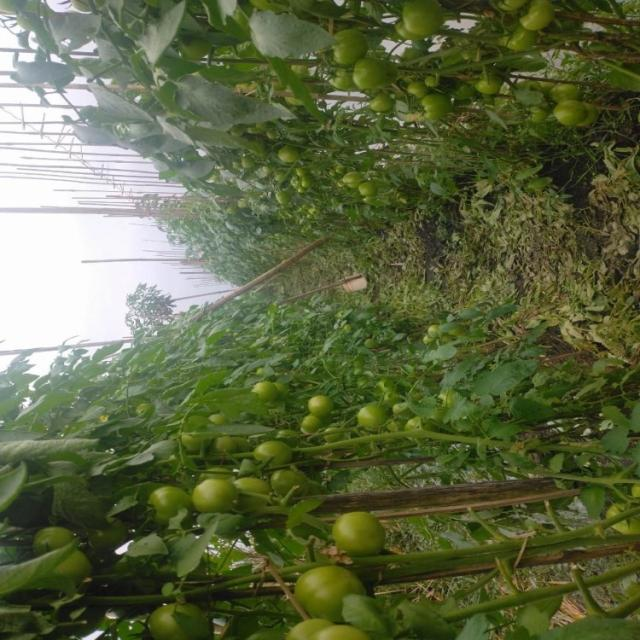tomato: (294, 558, 372, 616), (35, 526, 92, 579), (334, 502, 384, 556), (157, 594, 212, 640), (496, 22, 545, 64), (149, 485, 197, 525), (390, 5, 458, 33), (194, 478, 241, 518), (288, 616, 366, 640), (547, 97, 600, 132), (344, 54, 397, 89), (332, 27, 373, 69), (239, 468, 273, 508), (419, 94, 456, 130), (266, 468, 308, 499), (513, 3, 561, 28), (244, 367, 283, 396), (601, 503, 640, 531), (250, 439, 291, 464), (474, 70, 508, 100), (366, 87, 404, 111), (354, 403, 382, 434), (273, 142, 307, 167), (214, 430, 244, 456), (395, 398, 418, 430), (298, 413, 327, 438), (307, 394, 334, 416), (547, 75, 569, 100), (421, 321, 446, 343), (354, 183, 381, 202), (330, 65, 351, 84), (344, 171, 367, 188), (131, 401, 157, 416), (404, 77, 429, 92)
